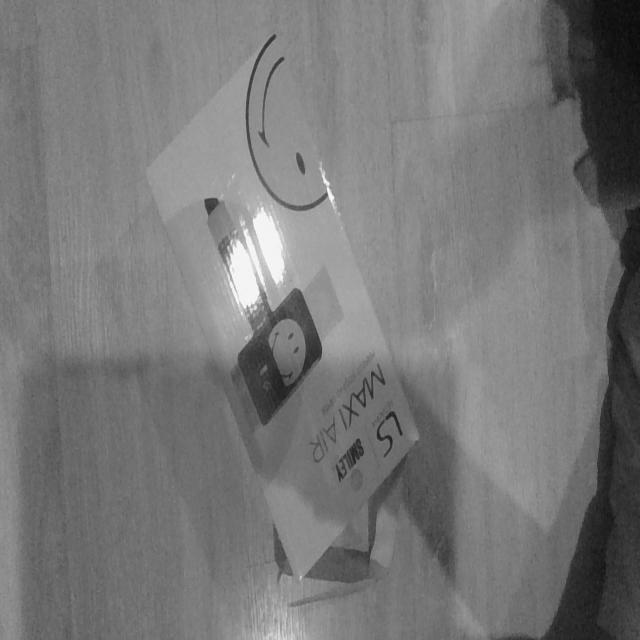Dryer: (144, 31, 421, 583)
